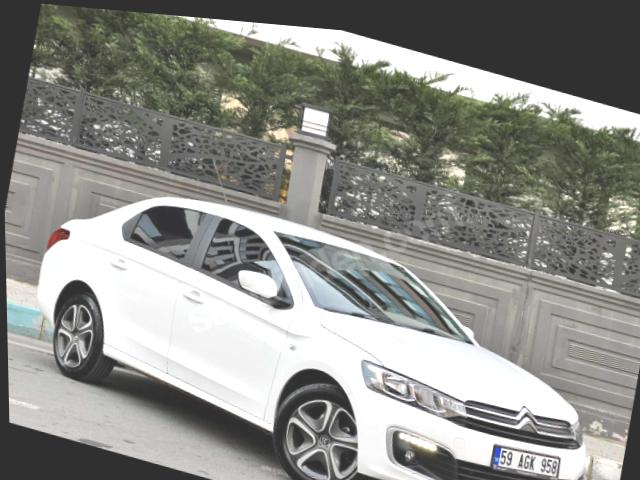plaka: (491, 446, 560, 479)
